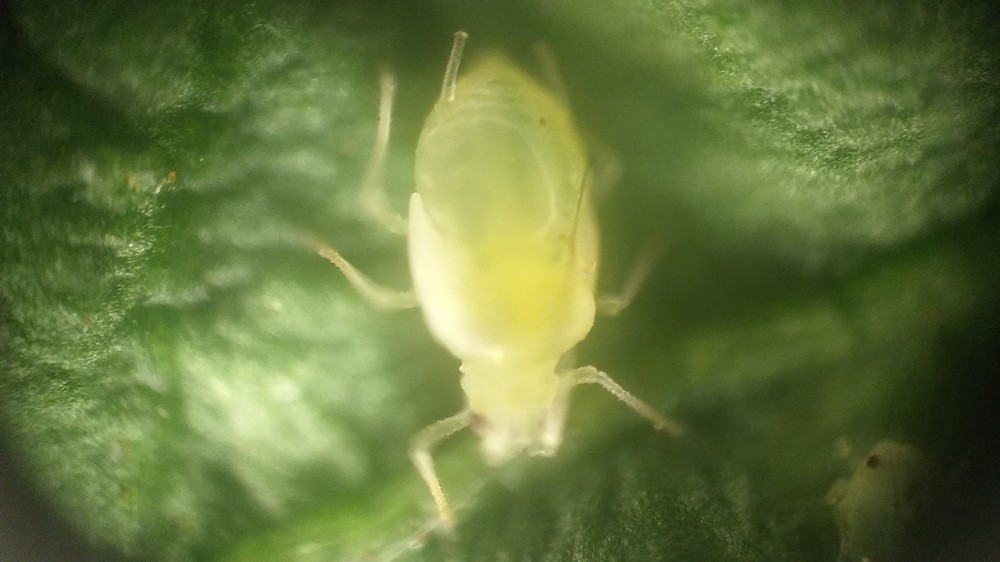Pulgon: (311, 29, 737, 539)
